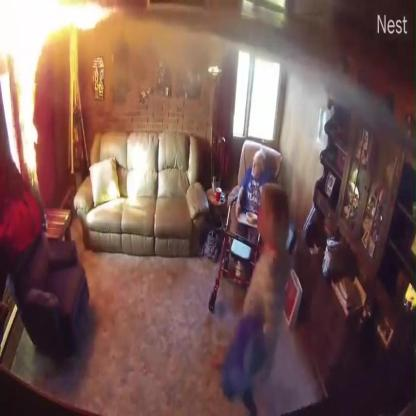fire: (1, 0, 41, 183), (0, 3, 118, 44)
